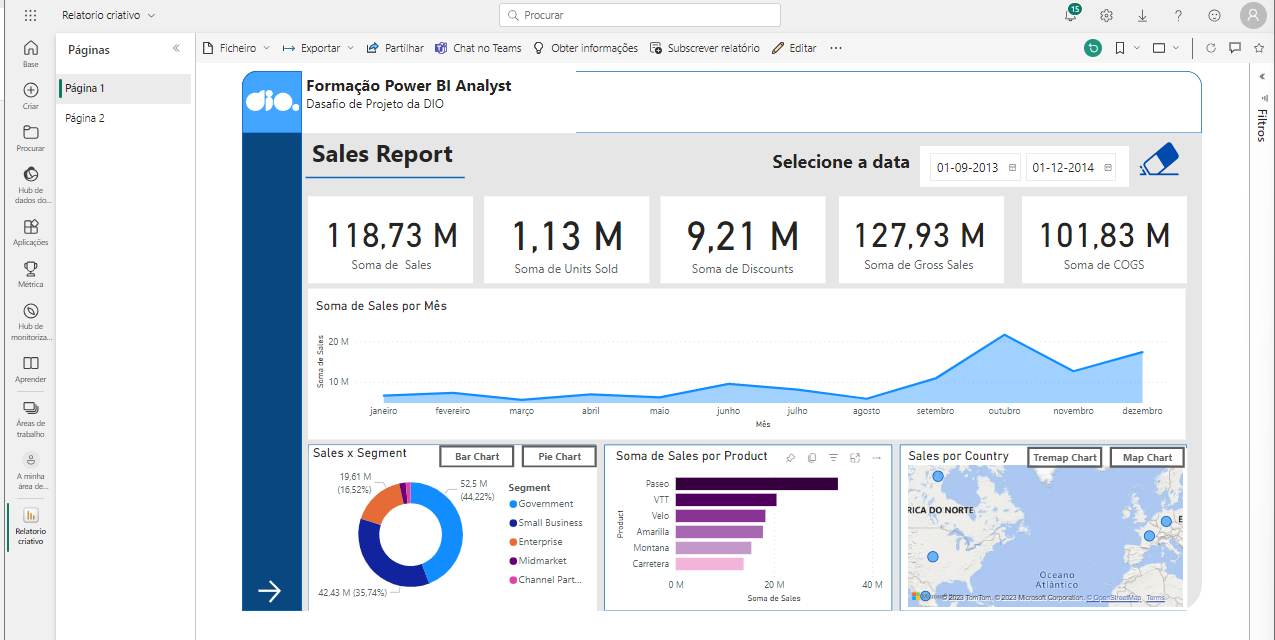

What the dashboard file says about the page in this screenshot:
{"tool":"powerbi","page":{"name":"Página 1","canvas":[1280,720],"ordinal":0},"visuals":[{"type":"shape","box":[0,0,1280,720],"z":0},{"type":"image","title":"Clear","box":[1185,86.7,73.3,61.7],"z":0,"group":"g2"},{"type":"shape","box":[85,118.3,211.7,48.3],"z":0,"group":"g5"},{"type":"shape","box":[88.3,166.7,219.6,116.7],"z":0,"group":"g1"},{"type":"map","title":"Sales por Country ","fields":{"Category":["financials.Country"],"Size":["Sum(financials. Sales)"]},"box":[882.8,502.8,377.1,217.1],"z":0,"group":"g3"},{"type":"clusteredBarChart","title":" Sales x Segment ","fields":{"Category":["financials.Segment"],"Y":["Sum(financials. Sales)"]},"box":[88.9,503.4,383.3,216.7],"z":0,"group":"g4"},{"type":"actionButton","title":"Botão - Map","box":[1157.5,501.2,100,27.5],"z":250,"group":"g3"},{"type":"actionButton","title":"Botão - Tremap","box":[1047.5,501.2,100,27.5],"z":500,"group":"g3"},{"type":"shape","box":[0,0,80,720],"z":1000},{"type":"textbox","box":[88.3,83.3,211.7,60],"z":1000,"group":"g5"},{"type":"slicer","fields":{"Values":["financials.Date"]},"box":[903.4,100,278.3,55],"z":1000,"group":"g2"},{"type":"shape","box":[323.3,166.7,219.6,116.7],"z":1000,"group":"g1"},{"type":"donutChart","title":"  Sales x Segment ","fields":{"Category":["financials.Segment"],"Y":["Sum(financials. Sales)"]},"box":[88.9,498.9,383.3,221.1],"z":1000,"group":"g4"},{"type":"actionButton","title":"Botão - Bar","box":[262.5,498.8,100,30],"z":1250,"group":"g4"},{"type":"actionButton","title":"Botão - Pie","box":[372.5,498.8,100,30],"z":1500,"group":"g4"},{"type":"shape","box":[0,0,80,83.3],"z":2000},{"type":"textbox","box":[701.7,100,201.7,55],"z":2000,"group":"g2"},{"type":"shape","box":[558.3,166.7,219.6,116.7],"z":2000,"group":"g1"},{"type":"image","title":"Logo_dio","box":[0,0,80,80],"z":3000},{"type":"actionButton","box":[1198.4,93.4,61.7,55],"z":3000,"group":"g2"},{"type":"shape","box":[796.8,166.7,219.6,116.7],"z":3000,"group":"g1"},{"type":"shape","box":[110,0,1170,83.3],"z":4000},{"type":"shape","box":[1040.4,166.7,219.6,116.7],"z":4000,"group":"g1"},{"type":"textbox","box":[80,0,365,83.3],"z":5000},{"type":"card","fields":{"Values":["Sum(financials.Gross Sales)"]},"box":[796.6,175,211.7,100],"z":5000,"group":"g1"},{"type":"group","id":"g1","title":"Cartões","box":[88.3,166.7,1171.7,116.7],"z":6000},{"type":"card","fields":{"Values":["Sum(financials. Sales)"]},"box":[93.3,175,211.7,100],"z":6000,"group":"g1"},{"type":"card","fields":{"Values":["Sum(financials.Discounts)"]},"box":[561.6,175,211.7,100],"z":7000,"group":"g1"},{"type":"shape","box":[88.3,290,1170,201.7],"z":7000},{"type":"card","fields":{"Values":["Sum(financials.Units Sold)"]},"box":[326.6,175,211.7,100],"z":8000,"group":"g1"},{"type":"shape","box":[88.3,498.3,383.3,221.7],"z":8000},{"type":"card","fields":{"Values":["Sum(financials.COGS)"]},"box":[1043.3,175,211.7,100],"z":9000,"group":"g1"},{"type":"shape","box":[483.3,498.3,383.3,221.7],"z":9000},{"type":"shape","box":[876.7,498.3,383.3,221.7],"z":10000},{"type":"areaChart","fields":{"Category":["financials.Date.Variation.Hierarquia de datas.Mês"],"Y":["Sum(financials. Sales)"]},"box":[93.3,301.7,1148.3,180],"z":11000},{"type":"clusteredBarChart","title":"Soma de Sales por Product","fields":{"Category":["financials.Product"],"Y":["Sum(financials. Sales)"]},"box":[492.9,502.9,365.7,211.4],"z":12000},{"type":"group","id":"g2","title":"Filtro por data","box":[701.7,86.7,558.3,68.3],"z":13000},{"type":"group","id":"g3","title":"Sales x País","box":[878.3,501.2,383.8,218.8],"z":14000},{"type":"group","id":"g4","title":"Sales X Segment","box":[88.9,498.8,383.6,221.2],"z":15000},{"type":"group","id":"g5","title":"Sales Report","box":[85,83.3,215,83.3],"z":16000},{"type":"actionButton","title":"Botão - Seta","box":[16.2,673.8,47.5,40],"z":17000}]}

Visuals, with their boxes on the page's 1280x720 design canvas (x1, y1, x2, y2). These are canvas units, not pixel positions in the 1275x640 screenshot, which may show the page scaled, cropped or inside an application window:
shape: (0, 0, 1280, 720)
"Clear" image: (1185, 87, 1258, 148)
shape: (85, 118, 297, 167)
shape: (88, 167, 308, 283)
"Sales por Country " map: (883, 503, 1260, 720)
" Sales x Segment " clusteredBarChart: (89, 503, 472, 720)
"Botão - Map" actionButton: (1158, 501, 1258, 529)
"Botão - Tremap" actionButton: (1048, 501, 1148, 529)
shape: (0, 0, 80, 720)
textbox: (88, 83, 300, 143)
slicer - financials.Date: (903, 100, 1182, 155)
shape: (323, 167, 543, 283)
"  Sales x Segment " donutChart: (89, 499, 472, 720)
"Botão - Bar" actionButton: (262, 499, 362, 529)
"Botão - Pie" actionButton: (372, 499, 472, 529)
shape: (0, 0, 80, 83)
textbox: (702, 100, 903, 155)
shape: (558, 167, 778, 283)
"Logo_dio" image: (0, 0, 80, 80)
actionButton: (1198, 93, 1260, 148)
shape: (797, 167, 1016, 283)
shape: (110, 0, 1280, 83)
shape: (1040, 167, 1260, 283)
textbox: (80, 0, 445, 83)
card - Sum(financials.Gross Sales): (797, 175, 1008, 275)
"Cartões" group: (88, 167, 1260, 283)
card - Sum(financials. Sales): (93, 175, 305, 275)
card - Sum(financials.Discounts): (562, 175, 773, 275)
shape: (88, 290, 1258, 492)
card - Sum(financials.Units Sold): (327, 175, 538, 275)
shape: (88, 498, 472, 720)
card - Sum(financials.COGS): (1043, 175, 1255, 275)
shape: (483, 498, 867, 720)
shape: (877, 498, 1260, 720)
areaChart - financials.Date.Variation.Hierarquia de datas.Mês x Sum(financials. Sales): (93, 302, 1242, 482)
"Soma de Sales por Product" clusteredBarChart: (493, 503, 859, 714)
"Filtro por data" group: (702, 87, 1260, 155)
"Sales x País" group: (878, 501, 1262, 720)
"Sales X Segment" group: (89, 499, 472, 720)
"Sales Report" group: (85, 83, 300, 167)
"Botão - Seta" actionButton: (16, 674, 64, 714)
